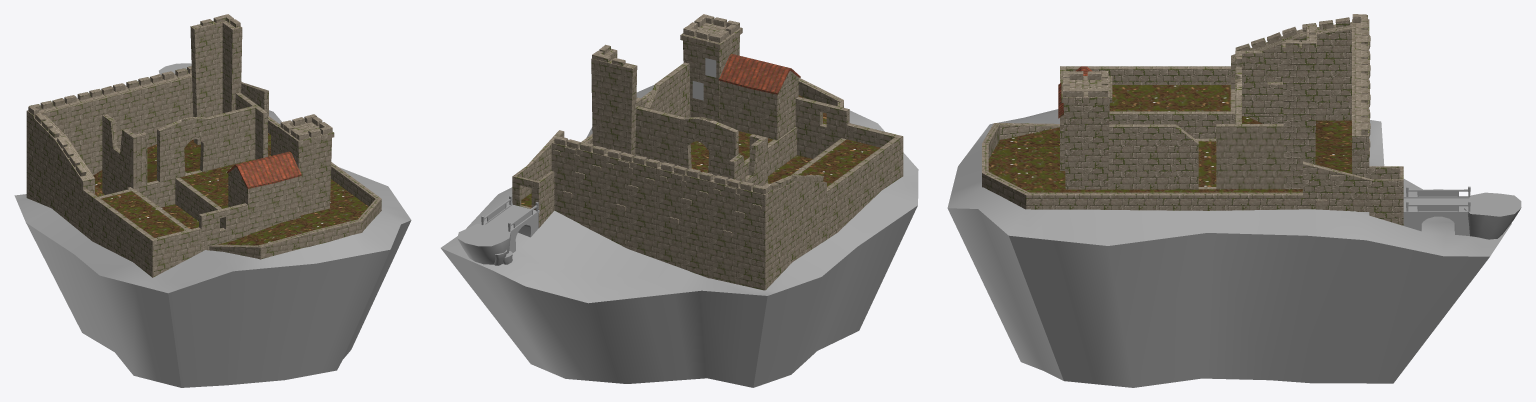
File: rocca_model.fbx
The picture shows the model from 3 angles, left to right: view 1: azimuth 30°, elevation 25°; view 2: azimuth 150°, elevation 25°; view 3: azimuth 270°, elevation 25°; orthographic projection. The views are drawn at different scales.
Visible parts, largest first — view 1: SM_island_stone_cliff, SM_island_stone_plane, SM_Ground, SM_Stone_wall_low5, polySurface172, pCube53, polySurface157, polySurface80, polySurface130, polySurface139, polySurface173, polySurface107 (+6 smaller); view 2: SM_island_stone_cliff, SM_island_stone_plane, SM_Stone_wall_low5, pCube53, polySurface155, polySurface157, polySurface172, polySurface80, polySurface139, polySurface130, SM_Stone_wall_low, SM_Ground (+9 smaller); view 3: SM_island_stone_cliff, SM_island_stone_plane, SM_Ground, polySurface104, polySurface118, pCube53, polySurface157, polySurface80, polySurface139, polySurface107, SM_external_bridge, polySurface133 (+6 smaller).
Boxes of the visible parts, x1,y1,x2,y2 form: SM_island_stone_cliff: (26, 210, 411, 387); SM_island_stone_plane: (14, 110, 410, 293); SM_Ground: (93, 133, 368, 245); SM_Stone_wall_low5: (26, 71, 179, 166); polySurface172: (98, 106, 255, 207); pCube53: (228, 114, 334, 234); polySurface157: (26, 105, 94, 233); polySurface80: (190, 14, 242, 144); polySurface130: (150, 203, 250, 277); polySurface139: (83, 189, 153, 275); polySurface173: (209, 198, 381, 259); polySurface107: (102, 114, 134, 194); SM_island_stone_cliff: (441, 205, 917, 387); SM_island_stone_plane: (441, 85, 918, 303); SM_Stone_wall_low5: (605, 149, 772, 250); pCube53: (680, 14, 798, 140); polySurface155: (554, 199, 772, 289); polySurface157: (752, 174, 826, 290); polySurface172: (635, 105, 767, 183); polySurface80: (591, 44, 637, 155); polySurface139: (827, 137, 900, 239); polySurface130: (795, 97, 903, 177); SM_Stone_wall_low: (551, 136, 609, 211); SM_Ground: (521, 95, 879, 207); SM_island_stone_cliff: (947, 208, 1489, 387); SM_island_stone_plane: (947, 109, 1511, 256); SM_Ground: (988, 85, 1351, 192); polySurface104: (1107, 124, 1284, 189); polySurface118: (1026, 161, 1371, 211); pCube53: (1060, 71, 1112, 189); polySurface157: (1231, 14, 1366, 120); polySurface80: (1282, 25, 1316, 189); polySurface139: (1066, 66, 1230, 84); polySurface107: (1241, 50, 1283, 123); SM_external_bridge: (1403, 186, 1470, 235); polySurface133: (1109, 111, 1235, 138).
Bounding box in the file's own units: 591 × 520 × 830.
